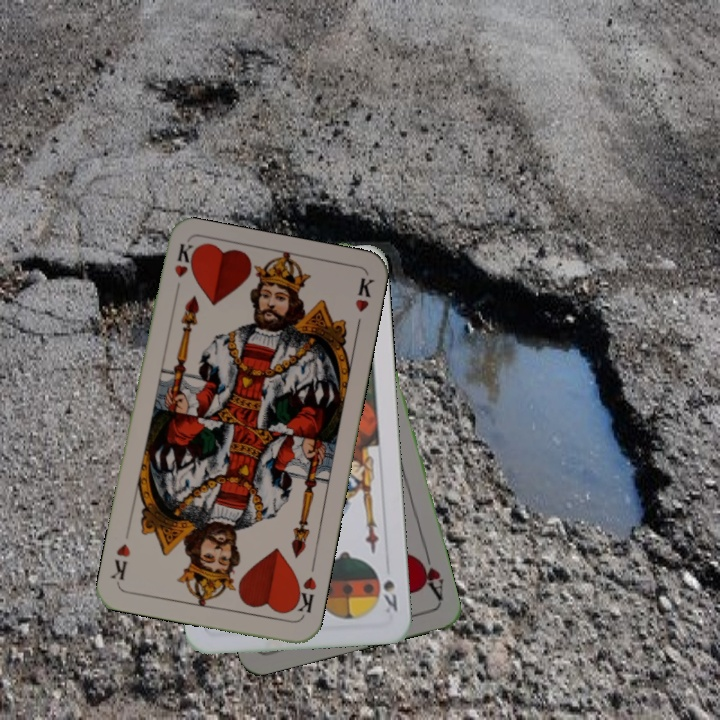HA: (412, 545, 446, 604)
HK: (170, 240, 195, 300), (288, 573, 319, 615)
SK: (379, 575, 400, 614)
